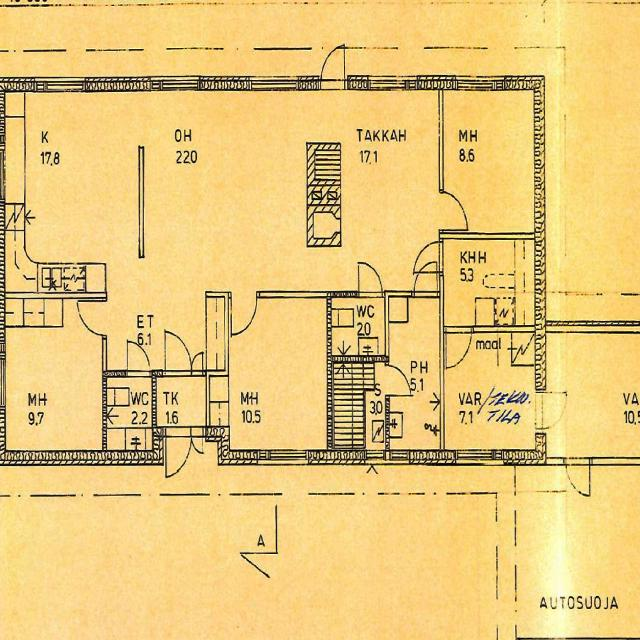door: (165, 426, 191, 478), (535, 392, 571, 428), (440, 192, 471, 230), (165, 333, 191, 378), (321, 42, 344, 91), (231, 292, 257, 334), (565, 458, 590, 500), (446, 327, 471, 368), (78, 300, 107, 334), (359, 258, 382, 298), (127, 338, 150, 377), (414, 259, 437, 297), (385, 365, 411, 395), (419, 242, 444, 272), (191, 426, 203, 458), (192, 355, 202, 377)
